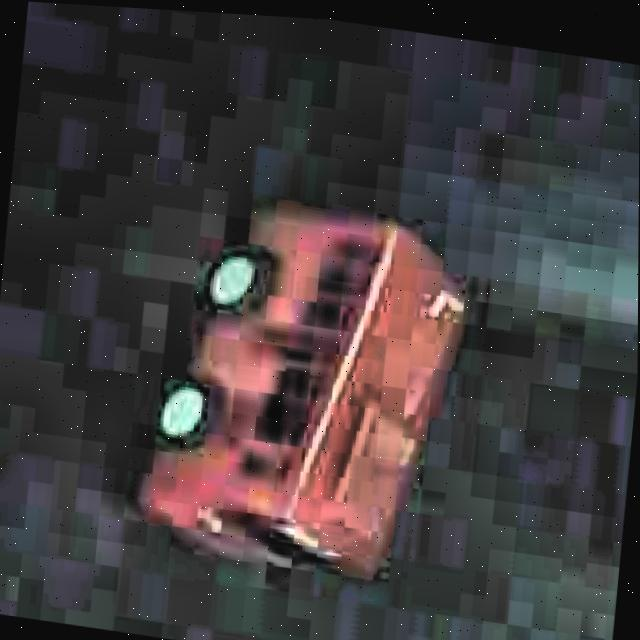bus: (123, 180, 478, 605)
